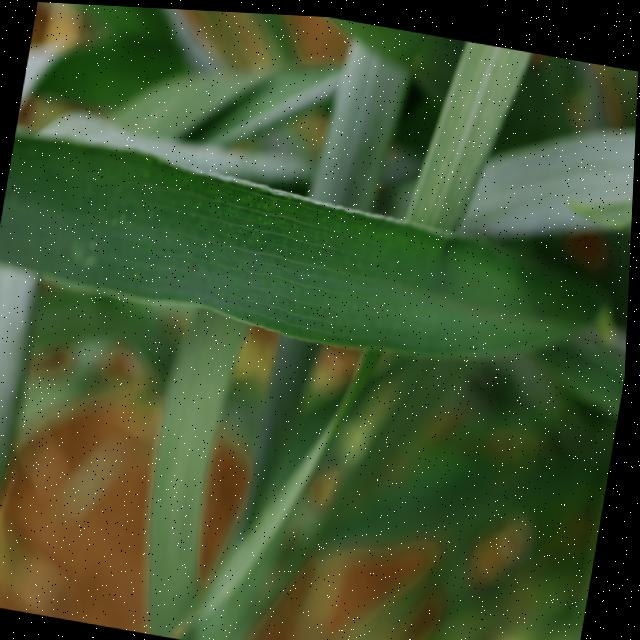healthy_wheat: (0, 76, 637, 413), (137, 298, 390, 640), (287, 12, 529, 233)
